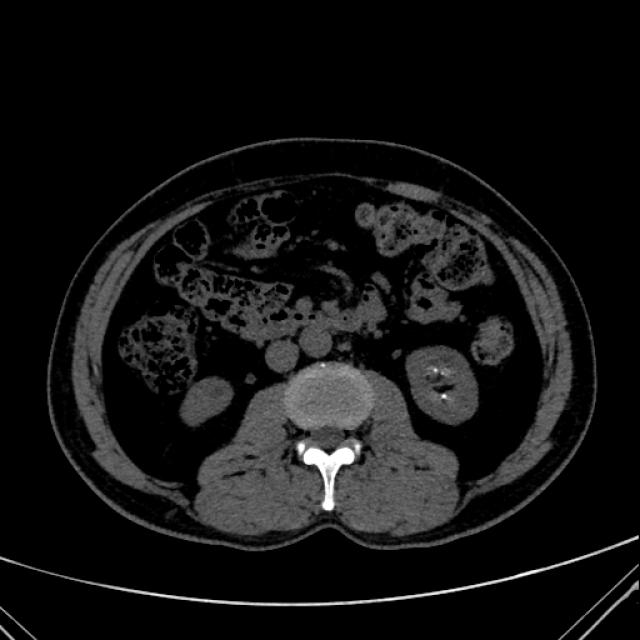kidneystone: (440, 392, 450, 404)
